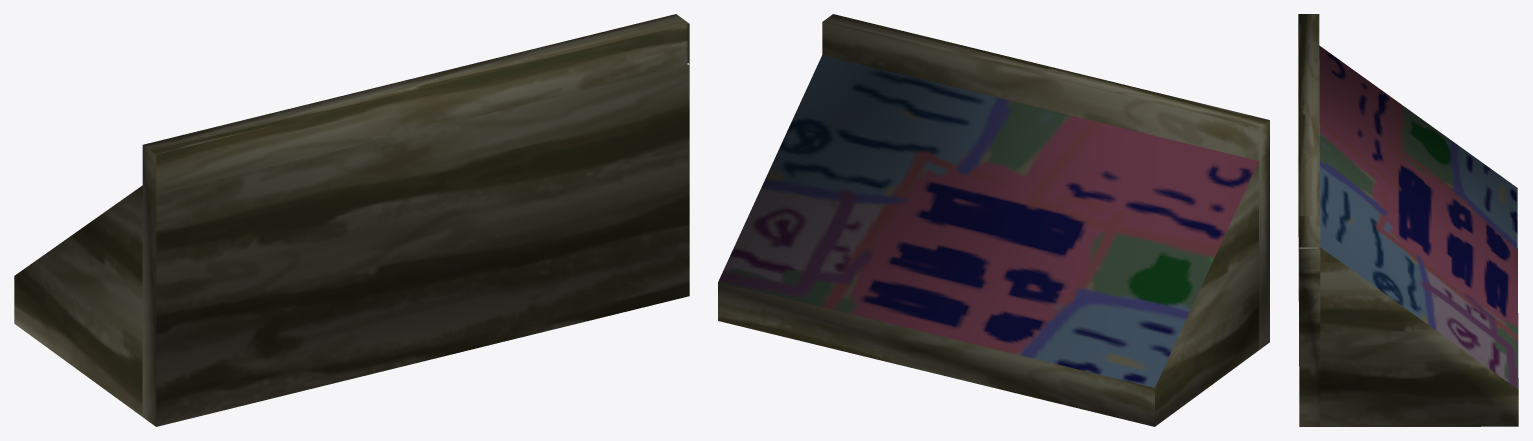
File: Balcao2.fbx
The picture shows the model from 3 angles, left to right: view 1: azimuth 30°, elevation 25°; view 2: azimuth 150°, elevation 25°; view 3: azimuth 270°, elevation 25°; orthographic projection. The views are drawn at different scales.
Visible parts, largest first — view 1: Balcao2; view 2: Balcao2; view 3: Balcao2.
Boxes of the visible parts, left/top/right/bottom form: Balcao2: left=14, top=14, right=689, bottom=426; Balcao2: left=718, top=14, right=1269, bottom=426; Balcao2: left=1298, top=14, right=1518, bottom=426.
Size of the model in its own units: 312 by 143 by 152.
